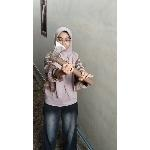Kapak: (48, 39, 94, 87)
